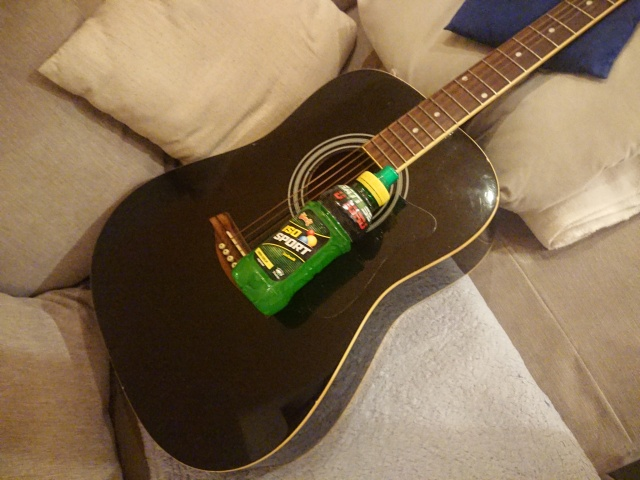Vindi Iso Sport Lemon-Grapefruit 500mL: (229, 163, 400, 319)
